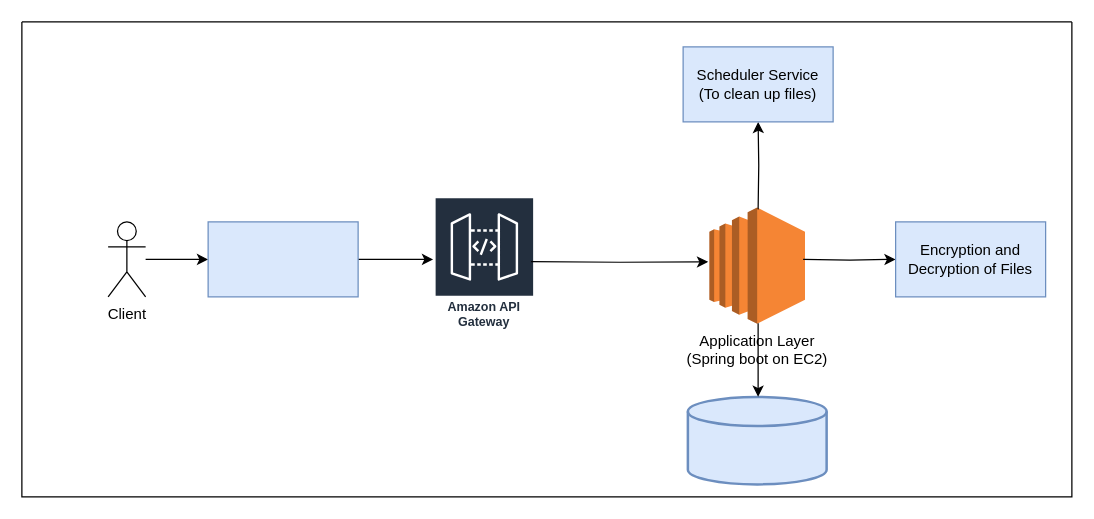
Some shapes in this 1094 by 519 pixel diagram are drawn without their labels. Each missing label, with the centre of its shape:
"Load Balancer (Amazon ELB, etc)" belongs at pixel 282 259.
"Local Storage to store the files temporarily" belongs at pixel 756 440.
